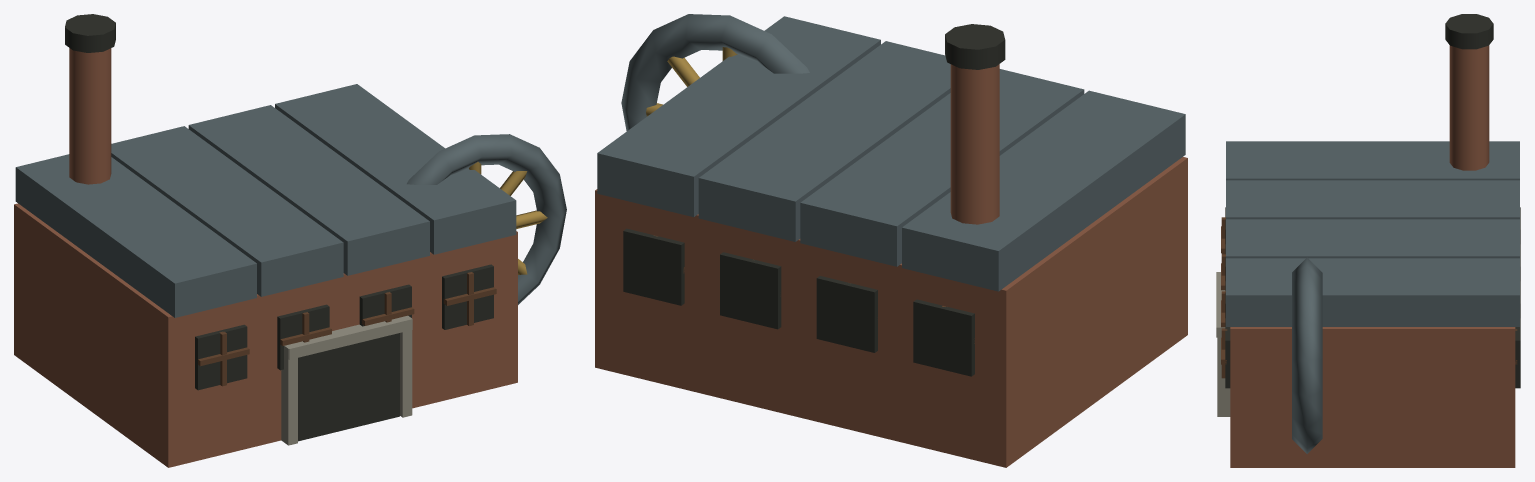
The model's file is custom-imp-machineworks.glb.
3 views of the same model, side by side, from view 1: azimuth 30°, elevation 25°; view 2: azimuth 150°, elevation 25°; view 3: azimuth 270°, elevation 25° (orthographic). The views are drawn at different scales.
Visible parts, largest first — view 1: custom-imp-machineworks; view 2: custom-imp-machineworks; view 3: custom-imp-machineworks.
Boxes of the visible parts, bbox=[...] form: custom-imp-machineworks: bbox=[14, 14, 566, 467]; custom-imp-machineworks: bbox=[595, 14, 1187, 467]; custom-imp-machineworks: bbox=[1216, 14, 1520, 467].
Size of the model in its own units: 1 by 0.729 by 0.6491.
